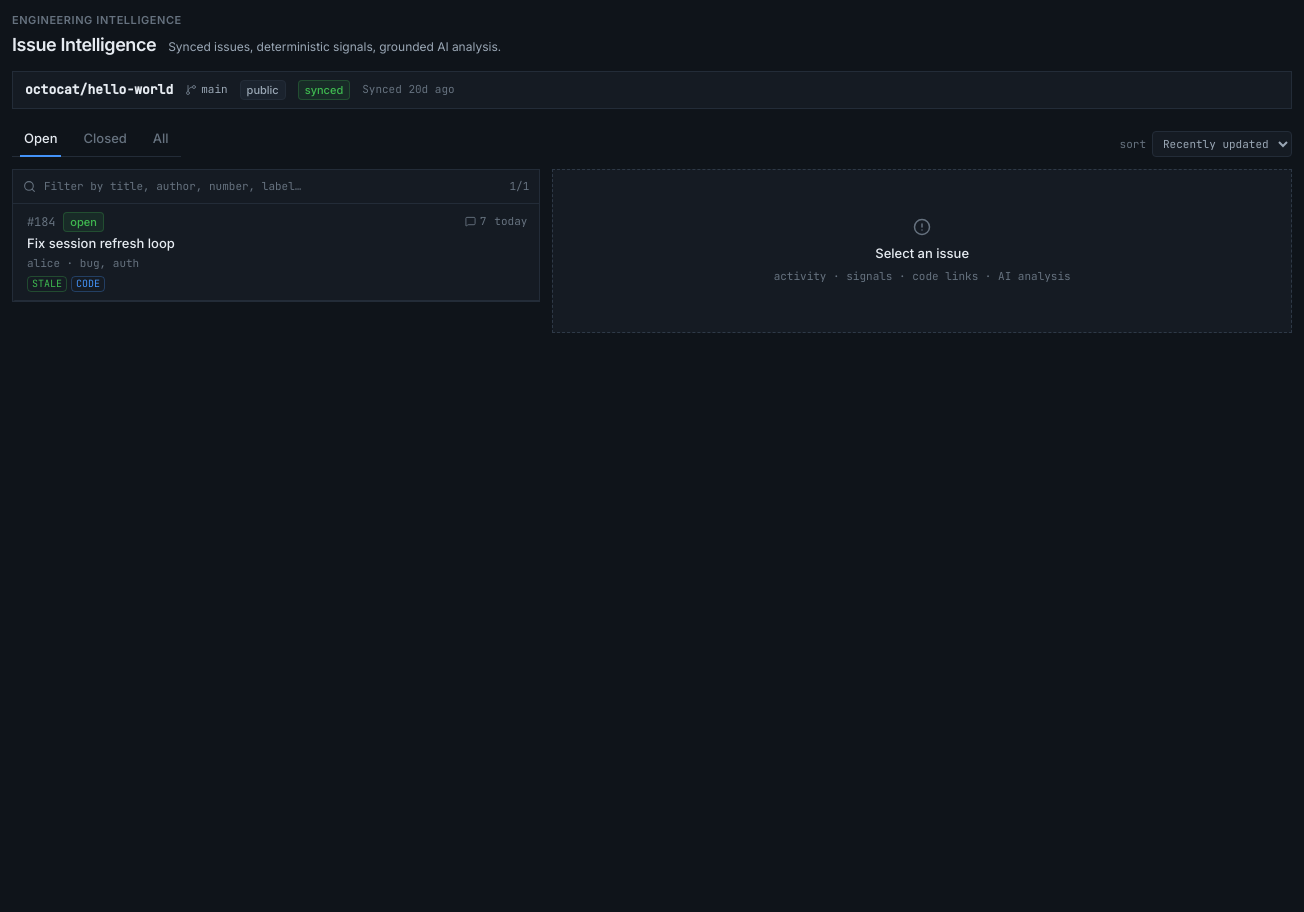
it: IssuesPage real intelligence › reports NO CODE CONNECTION honestly when nothing is linked
Click the text "Fix session refresh loop": [101, 242] box x1=27 y1=234 x2=175 y2=250
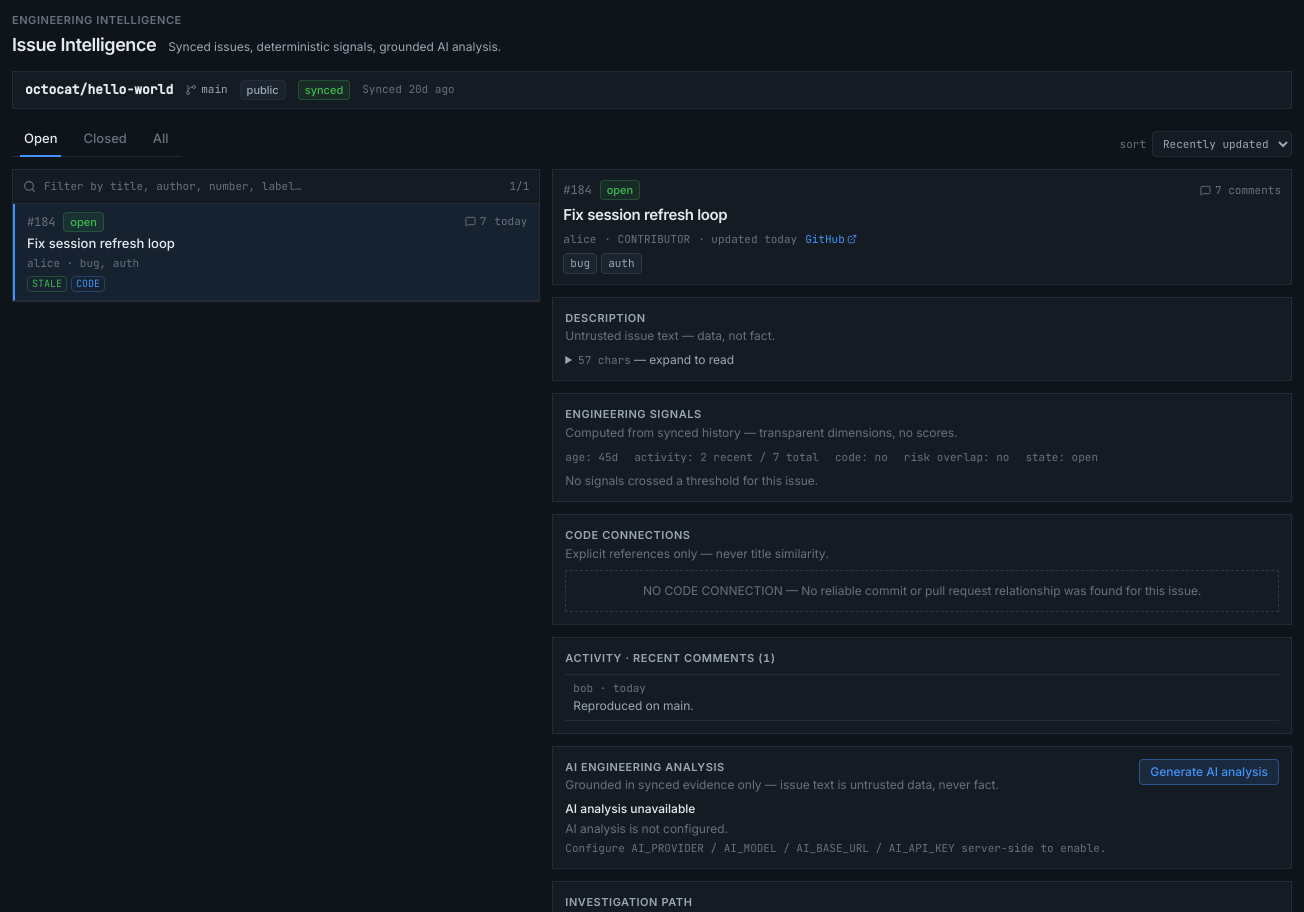
Now the text "NO CODE CONNECTION" is shown, box x1=643 y1=582 x2=1201 y2=598
